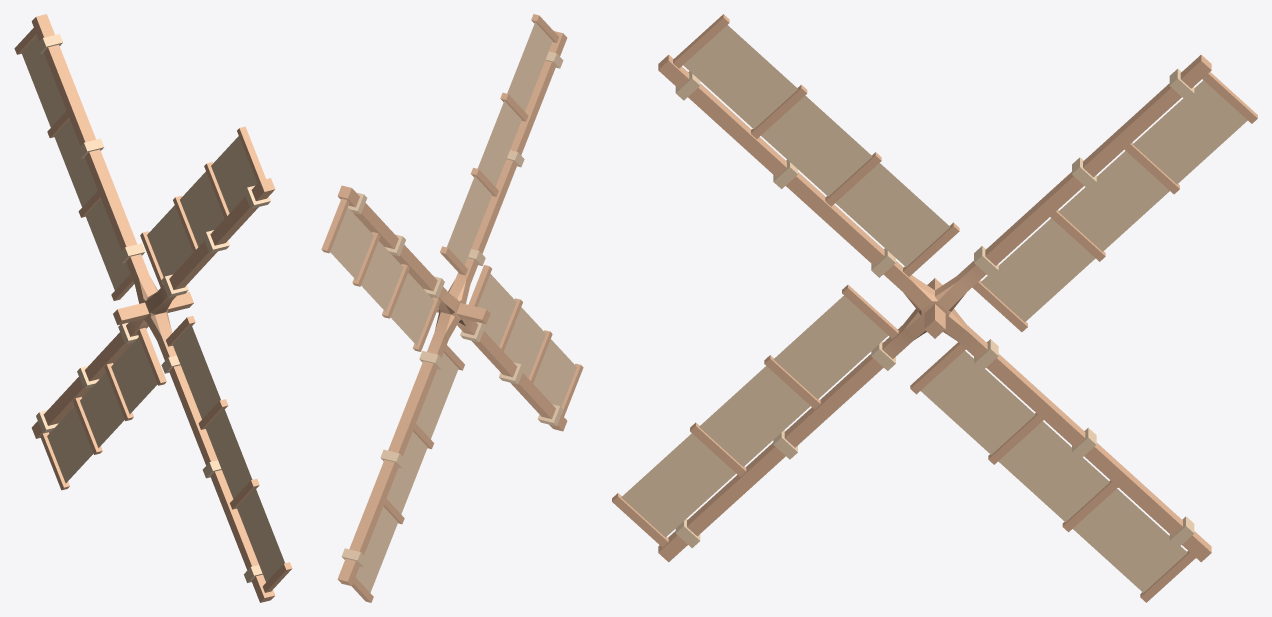
Rendered from windmill.glb.
3 views of the same model, side by side, from view 1: azimuth 30°, elevation 25°; view 2: azimuth 150°, elevation 25°; view 3: azimuth 270°, elevation 25° (orthographic). The views are drawn at different scales.
Visible parts, largest first — view 1: windmill; view 2: windmill; view 3: windmill.
Boxes of the visible parts, x1=… form: windmill: x1=14, y1=14, x2=292, y2=602; windmill: x1=321, y1=14, x2=583, y2=602; windmill: x1=612, y1=14, x2=1257, y2=602.
Bounding box in the file's own units: 0.471 × 3.07 × 3.07.
